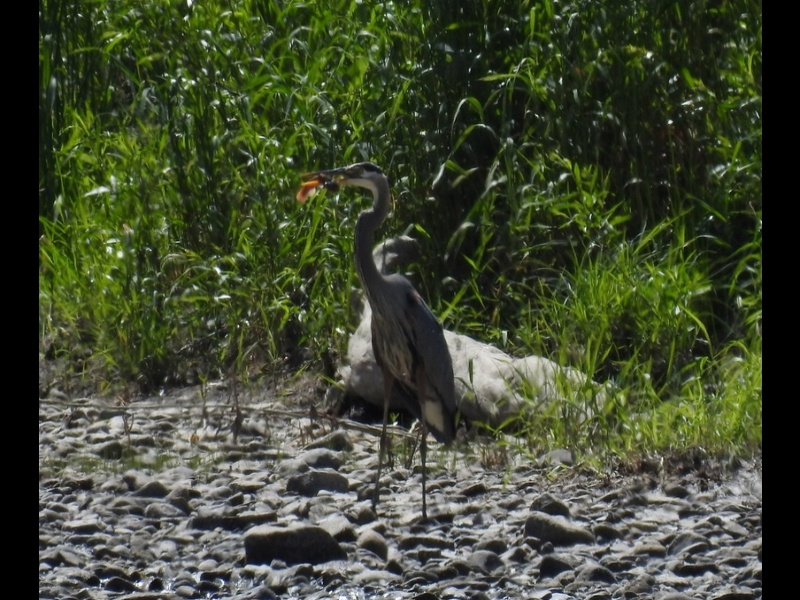heron: (307, 160, 460, 509)
